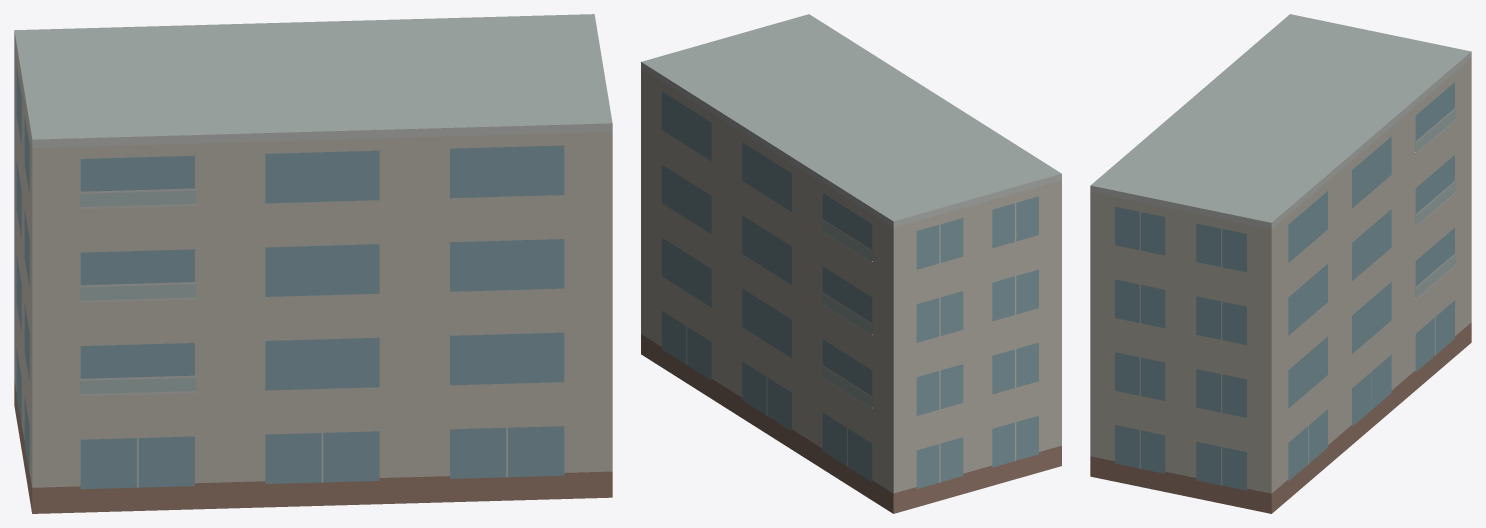
The model's file is survey-upis-32853526.glb.
The picture shows the model from 3 angles, left to right: view 1: azimuth 30°, elevation 25°; view 2: azimuth 150°, elevation 25°; view 3: azimuth 270°, elevation 25°; orthographic projection. The views are drawn at different scales.
Visible parts, largest first — view 1: survey-upis-32853526.tmp; view 2: survey-upis-32853526.tmp; view 3: survey-upis-32853526.tmp.
Part boxes in pixels (<box>): survey-upis-32853526.tmp: <box>14,14,612,513</box>; survey-upis-32853526.tmp: <box>641,14,1061,513</box>; survey-upis-32853526.tmp: <box>1090,14,1471,513</box>.
Bounding box in the file's own units: 16.94 × 11 × 13.07.
